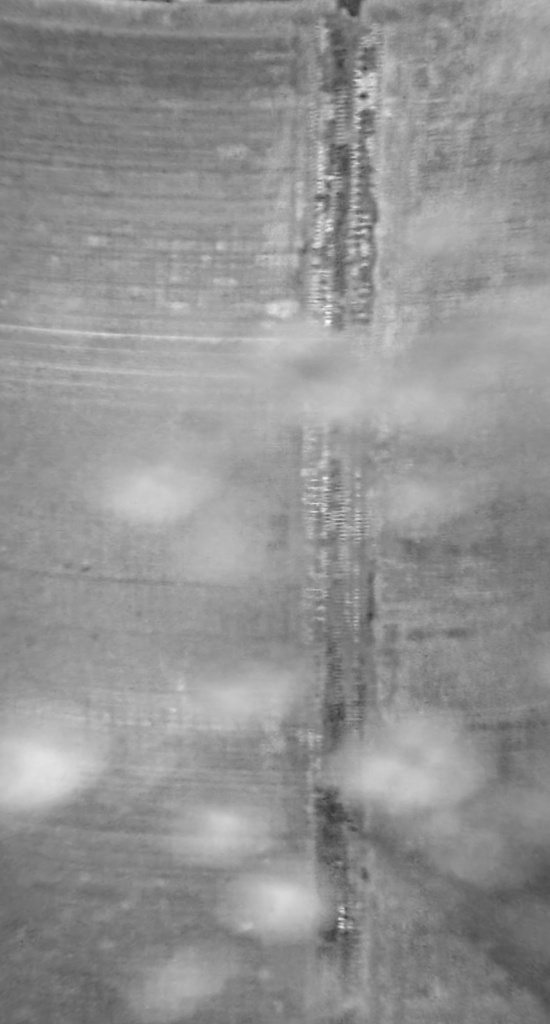splice: (297, 1, 394, 1022)
